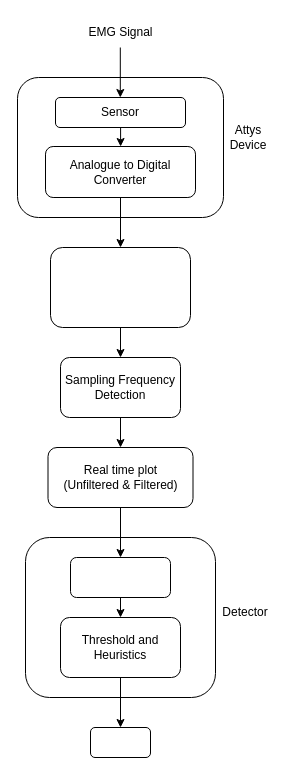
This 296x775 diagram has some shape labels left out. The centre of each missing label's shape, as x and y in pixels:
"Alert" goes at point 120,742.
"Filter (DC, 50Hz noise and ECG artefact)" goes at point 120,287.
"Match Filter" goes at point 120,577.
